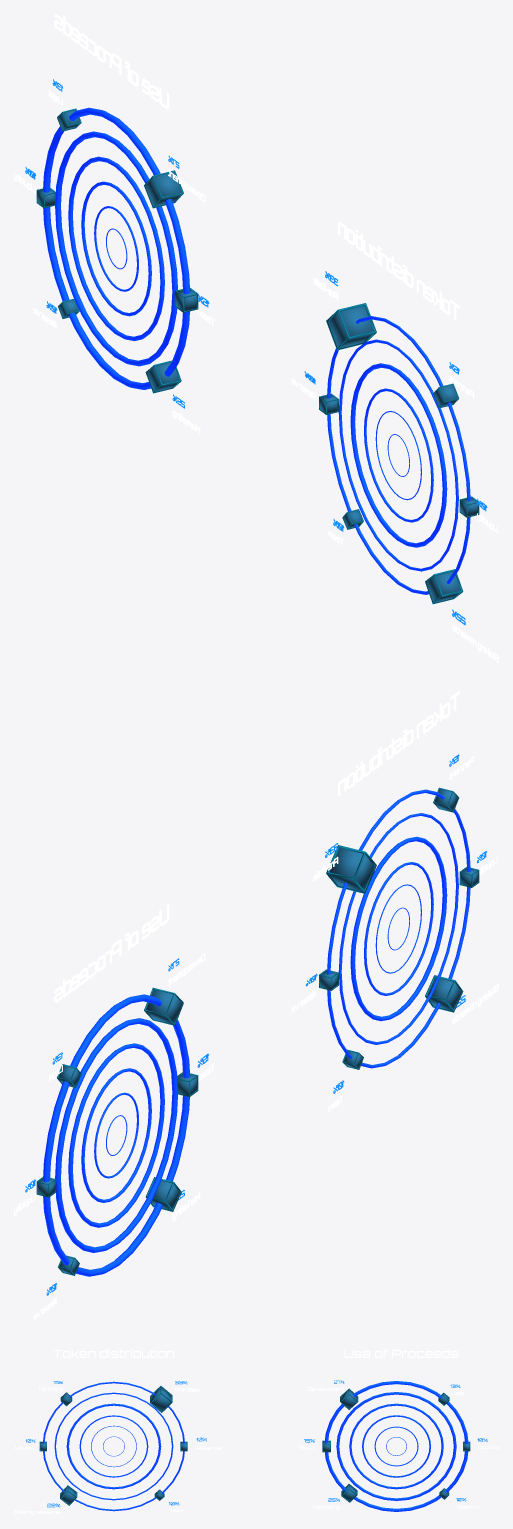
Rendered from tokenModel.glb.
The picture shows the model from 3 angles, top to bottom: view 1: azimuth 30°, elevation 25°; view 2: azimuth 150°, elevation 25°; view 3: azimuth 270°, elevation 25°; orthographic projection. The views are drawn at different scales.
Parts seen in each view (by area): view 1: Right, Circle.006, Circle.002, Circle.005, Left, Circle.001, Cube.004, Text.010, Text.011, Circle.004, Circle.003, Cube.006 (+2 smaller); view 2: Right, Circle.006, Circle.005, Left, Circle.002, Circle.001, Cube.004, Text.010, Text.011, Circle.004, Circle.003, Cube.006 (+2 smaller); view 3: Right, Circle.006, Left, Circle.002, Circle.005, Circle.001, Text.010, Text.011, Circle.004, Cube.004, Circle.003, Cube.006 (+3 smaller).
Boxes of the visible parts, <box> form: Right: <box>43,107,190,389</box>; Circle.006: <box>55,131,177,366</box>; Circle.002: <box>350,363,447,547</box>; Circle.005: <box>68,156,164,341</box>; Left: <box>327,316,470,594</box>; Circle.001: <box>338,339,458,571</box>; Cube.004: <box>326,303,376,350</box>; Text.010: <box>338,222,460,319</box>; Text.011: <box>54,14,169,109</box>; Circle.004: <box>81,181,151,316</box>; Circle.003: <box>364,388,433,522</box>; Cube.006: <box>144,170,183,208</box>; Right: <box>43,994,190,1276</box>; Circle.006: <box>55,1018,178,1252</box>; Circle.005: <box>68,1043,164,1227</box>; Left: <box>327,789,470,1068</box>; Circle.002: <box>350,836,447,1021</box>; Circle.001: <box>338,813,458,1044</box>; Cube.004: <box>326,845,376,893</box>; Text.010: <box>338,691,460,795</box>; Text.011: <box>54,904,169,1002</box>; Circle.004: <box>81,1068,151,1202</box>; Circle.003: <box>364,862,433,995</box>; Cube.006: <box>144,987,183,1025</box>; Right: <box>324,1381,468,1511</box>; Circle.006: <box>336,1392,456,1500</box>; Left: <box>43,1381,184,1511</box>; Circle.002: <box>66,1403,161,1489</box>; Circle.005: <box>349,1403,443,1489</box>; Circle.001: <box>54,1392,173,1500</box>; Text.010: <box>53,1349,174,1357</box>; Text.011: <box>344,1349,458,1357</box>; Circle.004: <box>362,1415,430,1477</box>; Cube.004: <box>150,1386,172,1412</box>; Circle.003: <box>79,1415,148,1477</box>; Cube.006: <box>340,1388,358,1409</box>.
Bounding box in the file's own units: 0.2745 × 3.09 × 8.2.
